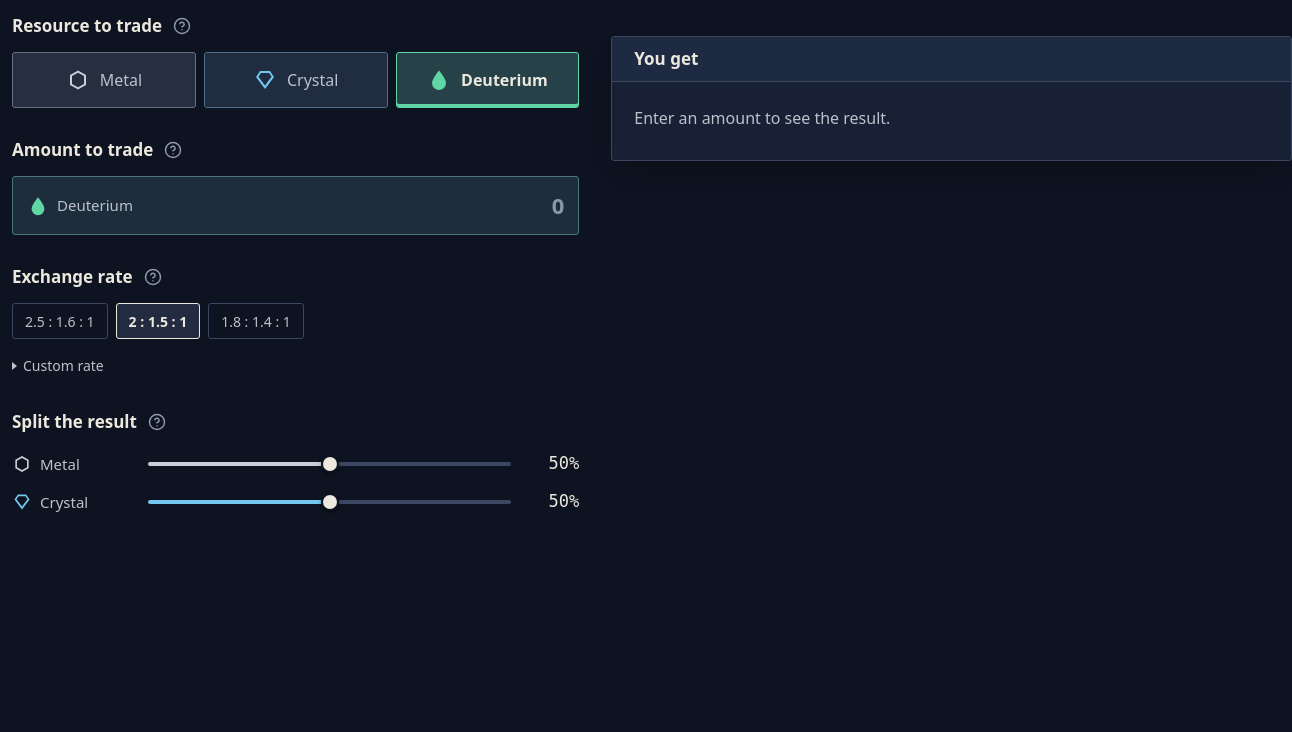
Test: <Trader /> › unusable custom rates › refuses an emptied term instead of silently trading against zero
This screenshot has width=1292, height=732.
Type "10000" into the field.
click(355, 206); type("10000")  # box [145,177,564,234]
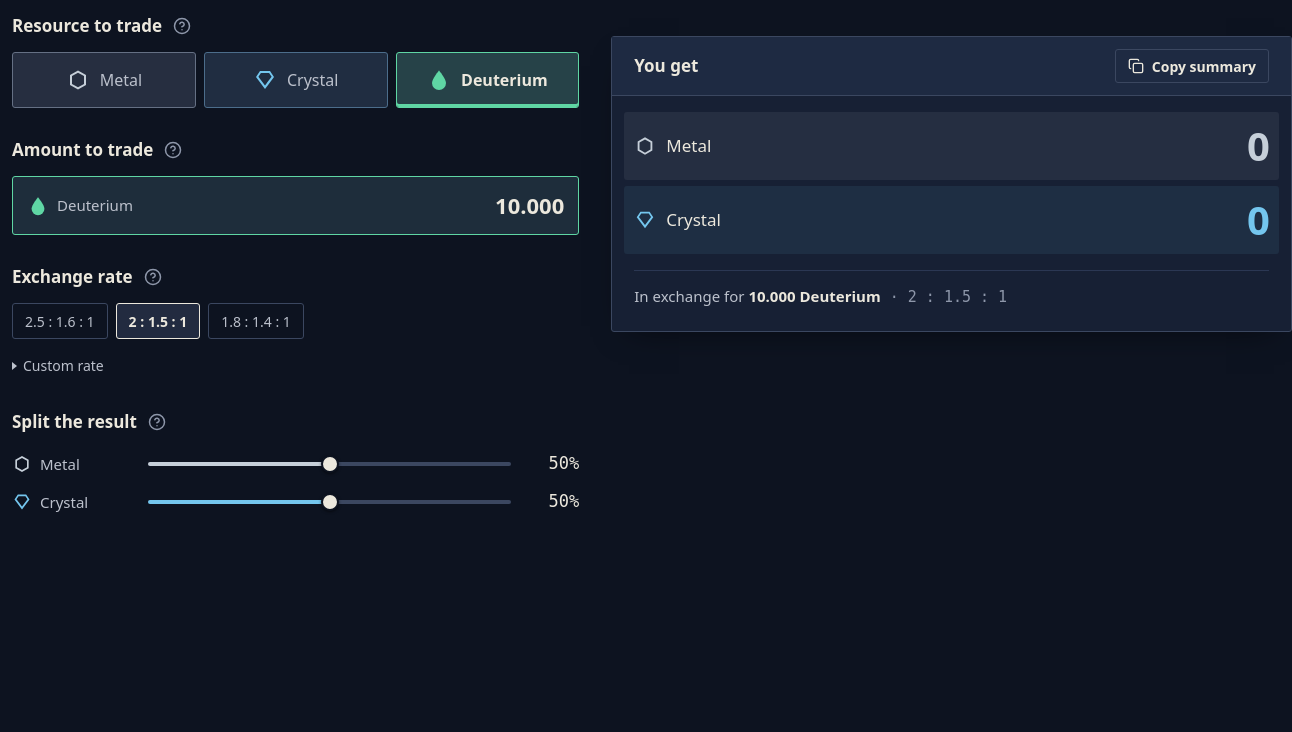
Clear the number field labelled "Custom rate" at (63, 366), box [23,356,104,375]
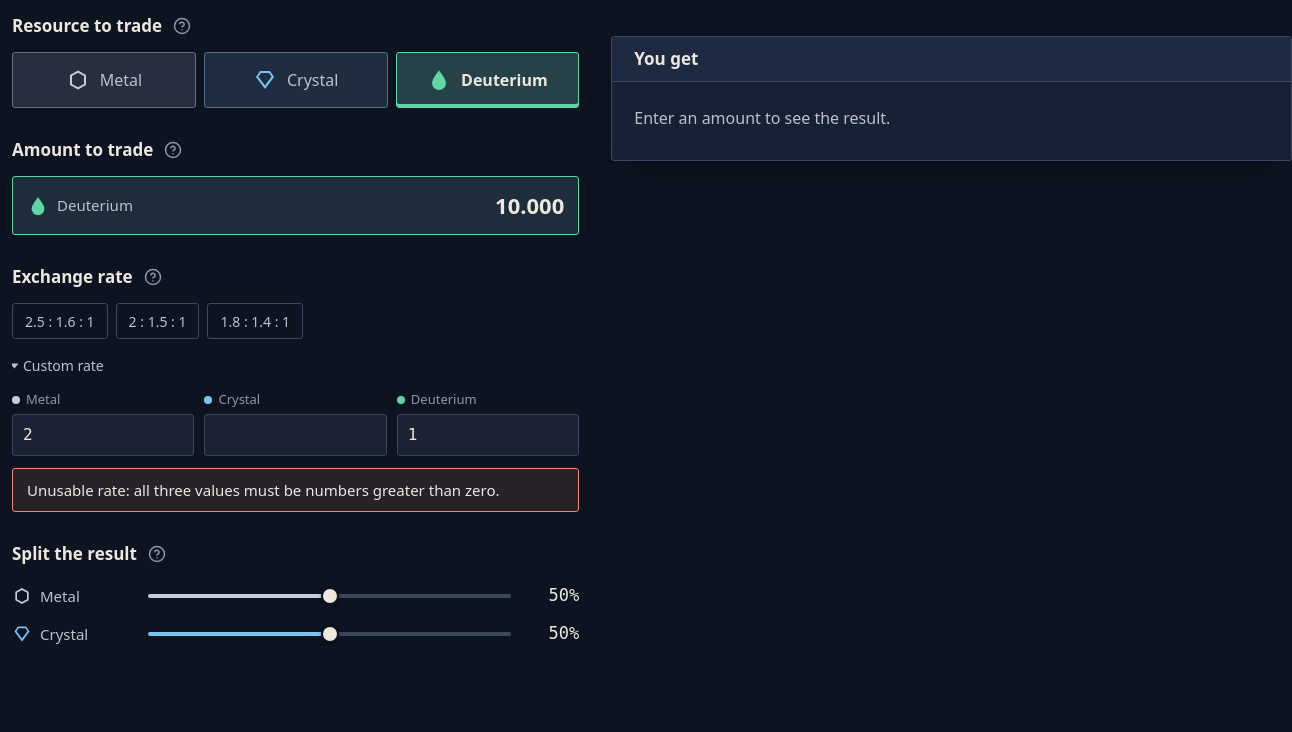
Expected: the message shows "Unusable rate", [27,480,500,500]
Expected: the text "Enter an amount to see the result." is shown, [634,107,890,129]
